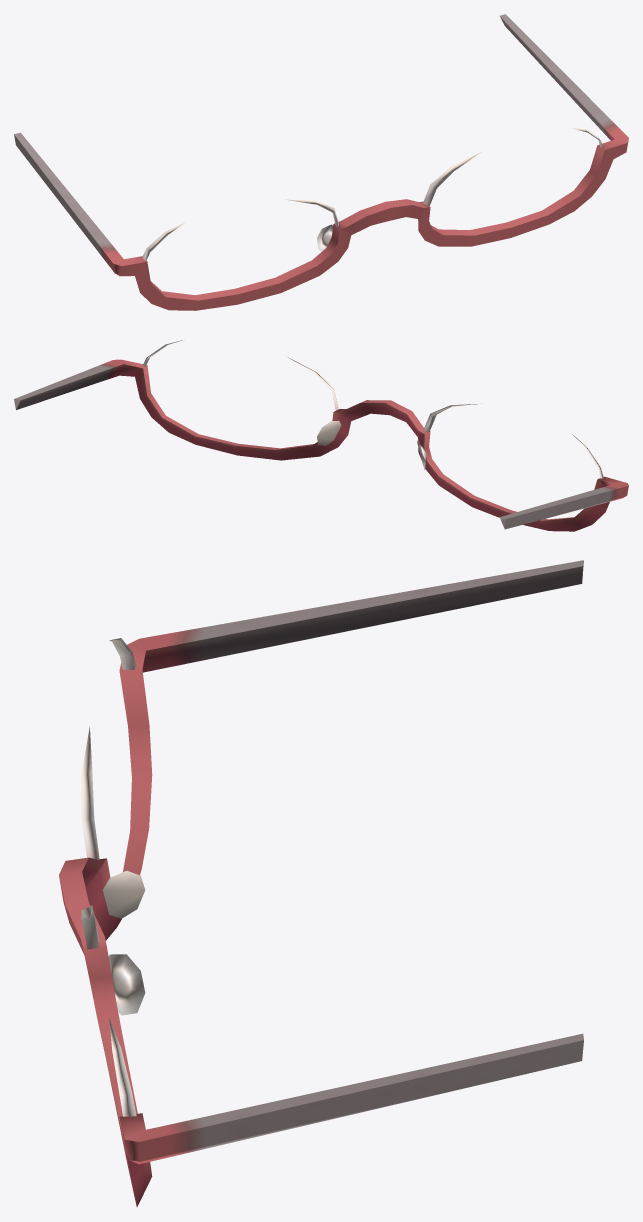
File: BiwaHayahideGlassesGround.fbx
The picture shows the model from 3 angles, top to bottom: view 1: azimuth 30°, elevation 25°; view 2: azimuth 150°, elevation 25°; view 3: azimuth 270°, elevation 25°; orthographic projection. The views are drawn at different scales.
Visible parts, largest first — view 1: M_Body.002; view 2: M_Body.002; view 3: M_Body.002.
Part boxes in pixels (left/top/right/bottom): M_Body.002: left=14, top=14, right=628, bottom=310; M_Body.002: left=14, top=340, right=628, bottom=531; M_Body.002: left=59, top=560, right=583, bottom=1206.
Size of the model in its own units: 0.0918 by 0.0193 by 0.0405.
